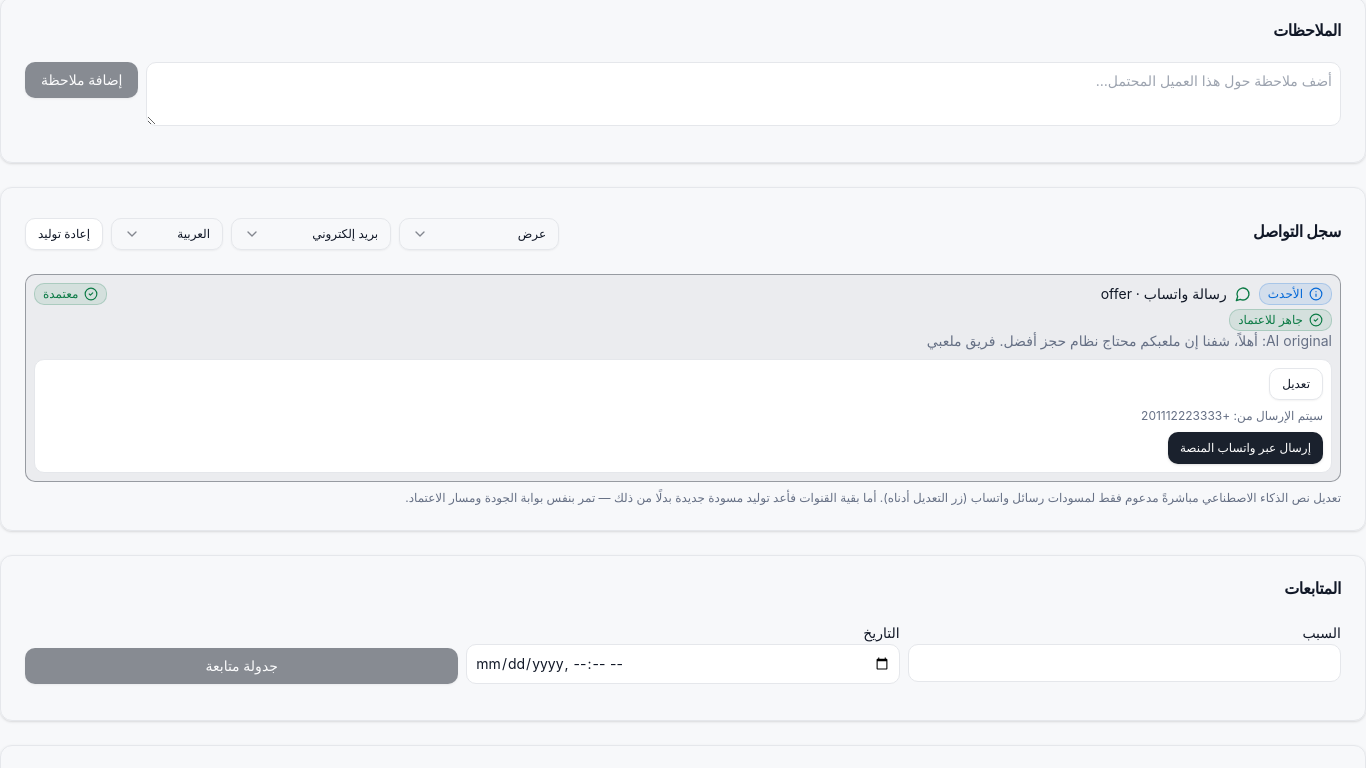
Test: SalesLeadDetailPage — whatsapp_message Send workflow (Platform WhatsApp) › shows a quality-rejected warning when the Edge Function reports the edit failed the commercial quality gate (DRAFT-1)
(page scrolled)
Click the button "تعديل" at (1296, 384), box [1269,368,1323,400]
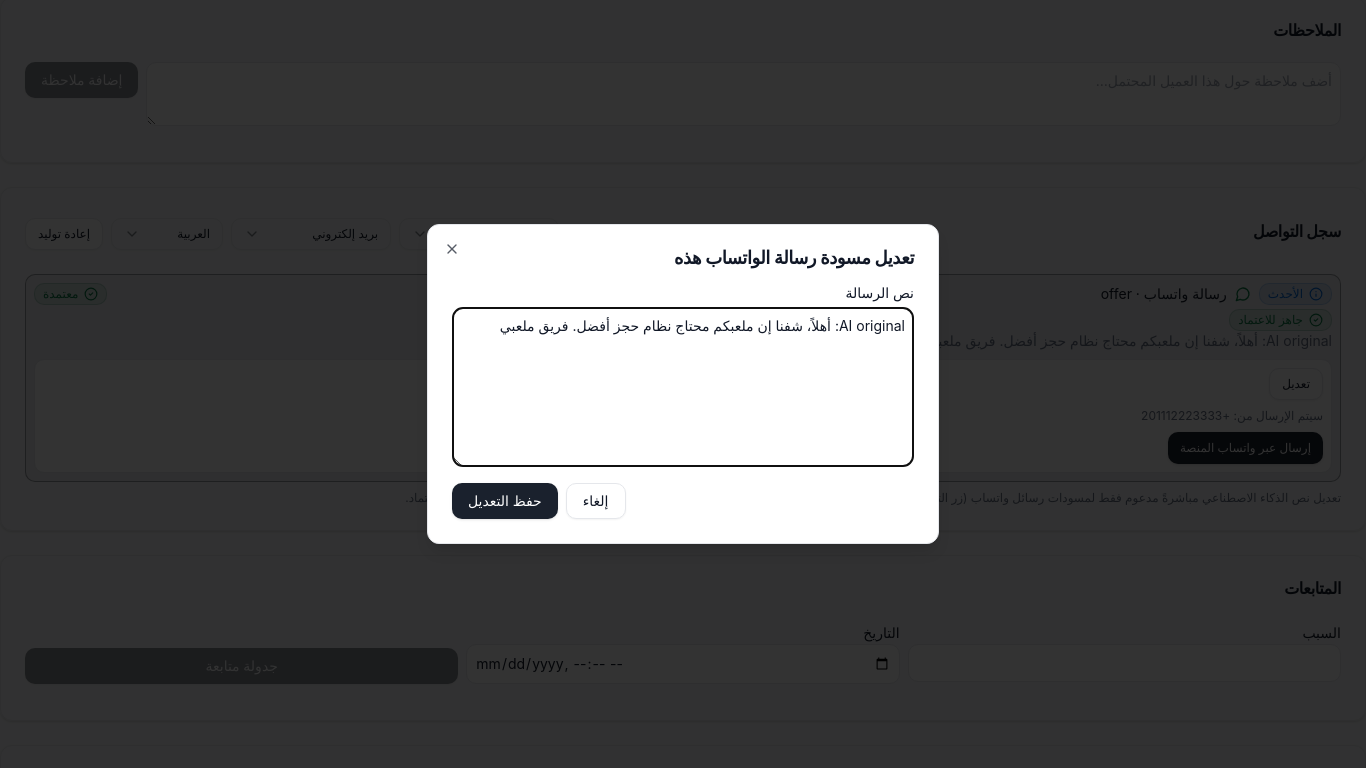
Replace the text in the text box labelled "نص الرسالة" with "[placeholder]" at (683, 387), box [452,307,914,467]
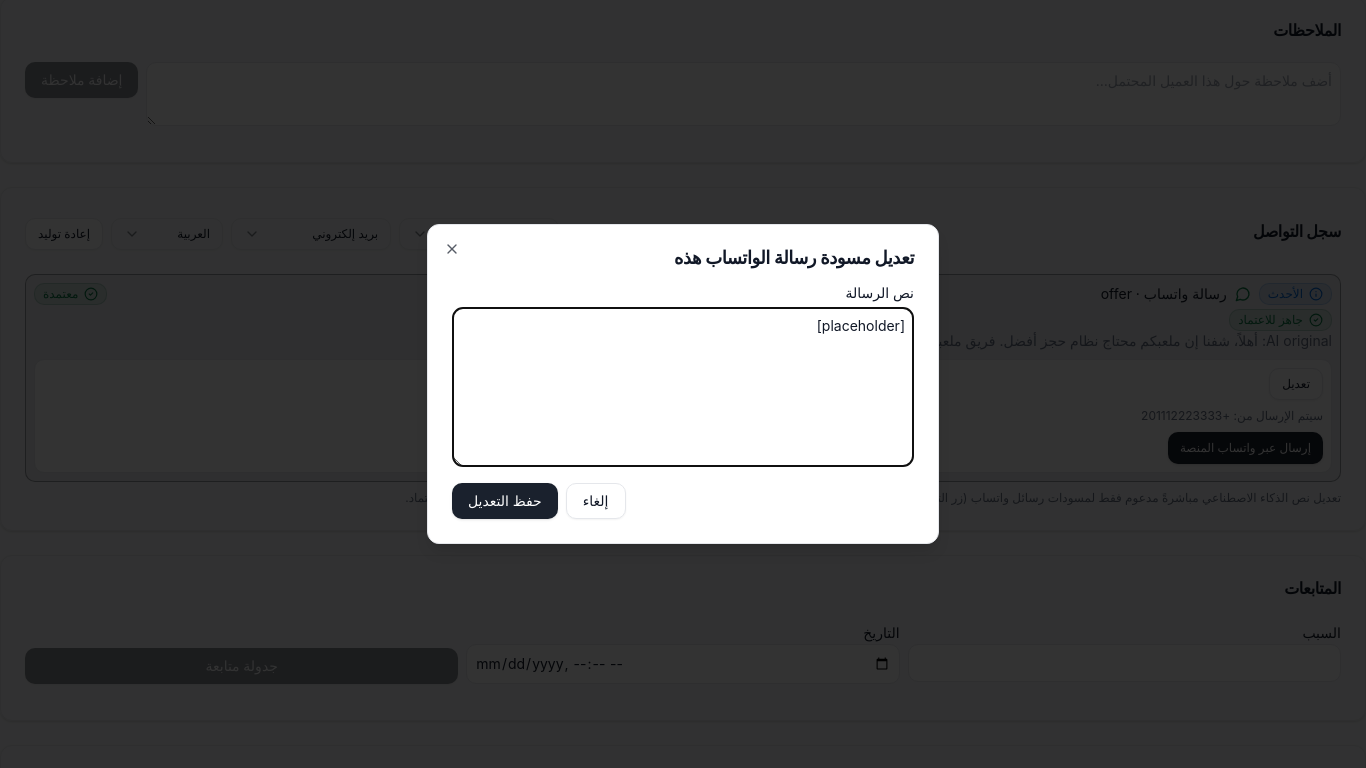
Click the button "حفظ التعديل" at (505, 501), box [452,483,558,519]
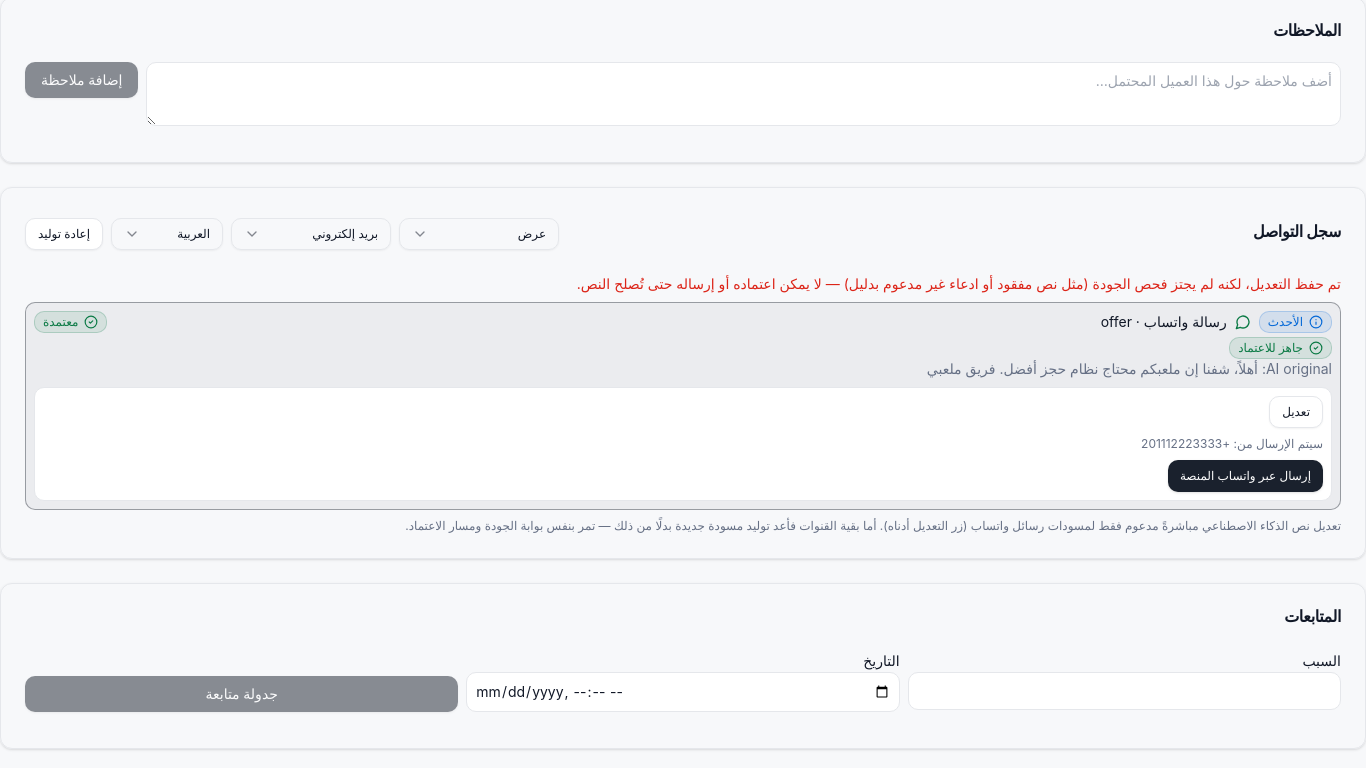
Now the text "تم حفظ التعديل، لكنه لم يجتز فحص الجودة (مثل نص مفقود أو ادعاء غير مدعوم بدليل) — لا يمكن اعتماده أو إرساله حتى تُصلح ال" is shown, box [577,275,1341,292]
